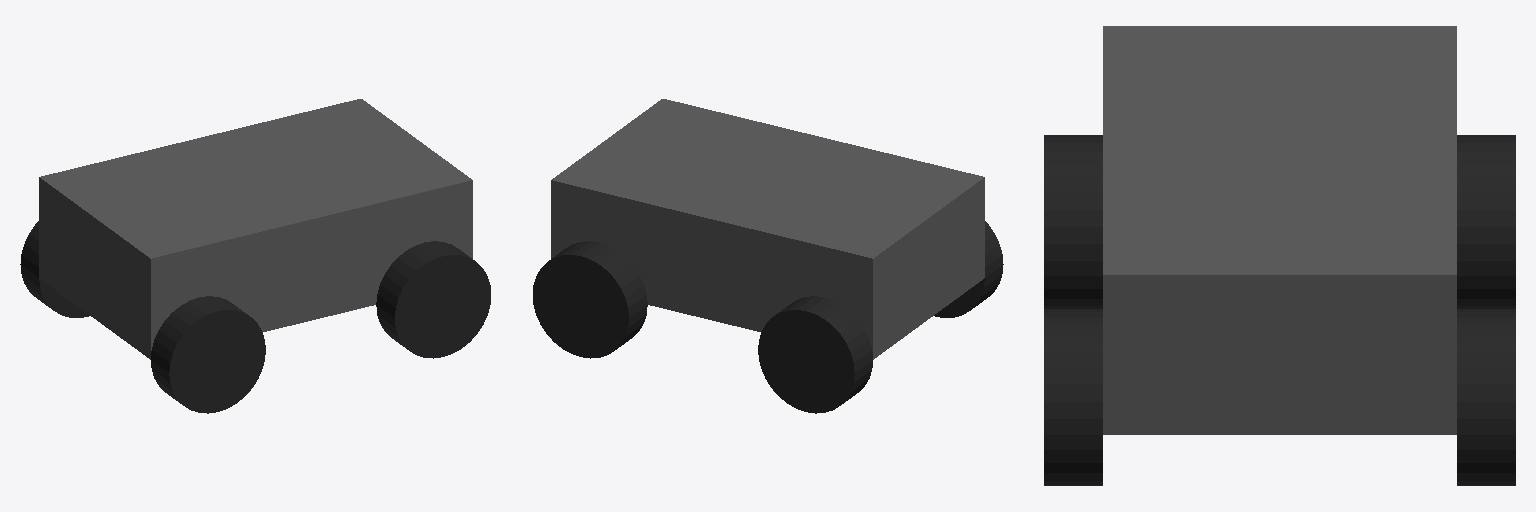
The robot description file, URDF, robot "panther":
<?xml version="1.0"?>
<robot name="panther" xmlns:xacro="http://www.ros.org/wiki/xacro">

  <!-- Base Link -->
  <link name="base_link">
    <visual>
      <origin xyz="0 0 0" rpy="0 0 0"/>
      <geometry>
        <box size="1.0 0.6 0.3"/>
      </geometry>
      <material name="dark_grey">
        <color rgba="0.4 0.4 0.4 1"/>
      </material>
    </visual>
    <collision>
      <origin xyz="0 0 0" rpy="0 0 0"/>
      <geometry>
        <box size="1.0 0.6 0.3"/>
      </geometry>
    </collision>
    <inertial>
      <mass value="30.0"/>
      <inertia ixx="1.5" ixy="0" ixz="0" iyy="3.0" iyz="0" izz="3.5"/>
    </inertial>
  </link>

  <!-- Front Left Wheel -->
  <link name="front_left_wheel">
    <visual>
      <origin xyz="0 0 0" rpy="1.5708 0 0"/>
      <geometry>
        <cylinder radius="0.15" length="0.1"/>
      </geometry>
      <material name="black">
        <color rgba="0.2 0.2 0.2 1"/>
      </material>
    </visual>
    <collision>
      <origin xyz="0 0 0" rpy="1.5708 0 0"/>
      <geometry>
        <cylinder radius="0.15" length="0.1"/>
      </geometry>
    </collision>
    <inertial>
      <mass value="2.0"/>
      <inertia ixx="0.02" ixy="0" ixz="0" iyy="0.02" iyz="0" izz="0.04"/>
    </inertial>
  </link>

  <!-- Front Right Wheel -->
  <link name="front_right_wheel">
    <visual>
      <origin xyz="0 0 0" rpy="1.5708 0 0"/>
      <geometry>
        <cylinder radius="0.15" length="0.1"/>
      </geometry>
      <material name="black">
        <color rgba="0.2 0.2 0.2 1"/>
      </material>
    </visual>
    <collision>
      <origin xyz="0 0 0" rpy="1.5708 0 0"/>
      <geometry>
        <cylinder radius="0.15" length="0.1"/>
      </geometry>
    </collision>
    <inertial>
      <mass value="2.0"/>
      <inertia ixx="0.02" ixy="0" ixz="0" iyy="0.02" iyz="0" izz="0.04"/>
    </inertial>
  </link>

  <!-- Rear Left Wheel -->
  <link name="rear_left_wheel">
    <visual>
      <origin xyz="0 0 0" rpy="1.5708 0 0"/>
      <geometry>
        <cylinder radius="0.15" length="0.1"/>
      </geometry>
      <material name="black">
        <color rgba="0.2 0.2 0.2 1"/>
      </material>
    </visual>
    <collision>
      <origin xyz="0 0 0" rpy="1.5708 0 0"/>
      <geometry>
        <cylinder radius="0.15" length="0.1"/>
      </geometry>
    </collision>
    <inertial>
      <mass value="2.0"/>
      <inertia ixx="0.02" ixy="0" ixz="0" iyy="0.02" iyz="0" izz="0.04"/>
    </inertial>
  </link>

  <!-- Rear Right Wheel -->
  <link name="rear_right_wheel">
    <visual>
      <origin xyz="0 0 0" rpy="1.5708 0 0"/>
      <geometry>
        <cylinder radius="0.15" length="0.1"/>
      </geometry>
      <material name="black">
        <color rgba="0.2 0.2 0.2 1"/>
      </material>
    </visual>
    <collision>
      <origin xyz="0 0 0" rpy="1.5708 0 0"/>
      <geometry>
        <cylinder radius="0.15" length="0.1"/>
      </geometry>
    </collision>
    <inertial>
      <mass value="2.0"/>
      <inertia ixx="0.02" ixy="0" ixz="0" iyy="0.02" iyz="0" izz="0.04"/>
    </inertial>
  </link>

  <!-- Joints -->
  <joint name="base_to_front_left_wheel" type="continuous">
    <parent link="base_link"/>
    <child link="front_left_wheel"/>
    <origin xyz="0.35 0.35 -0.15" rpy="0 0 0"/>
    <axis xyz="0 1 0"/>
  </joint>

  <joint name="base_to_front_right_wheel" type="continuous">
    <parent link="base_link"/>
    <child link="front_right_wheel"/>
    <origin xyz="0.35 -0.35 -0.15" rpy="0 0 0"/>
    <axis xyz="0 1 0"/>
  </joint>

  <joint name="base_to_rear_left_wheel" type="continuous">
    <parent link="base_link"/>
    <child link="rear_left_wheel"/>
    <origin xyz="-0.35 0.35 -0.15" rpy="0 0 0"/>
    <axis xyz="0 1 0"/>
  </joint>

  <joint name="base_to_rear_right_wheel" type="continuous">
    <parent link="base_link"/>
    <child link="rear_right_wheel"/>
    <origin xyz="-0.35 -0.35 -0.15" rpy="0 0 0"/>
    <axis xyz="0 1 0"/>
  </joint>

</robot>

--- Facts derived from the render (not from the file) ---
Views: 3 orthographic renders of the robot side by side, from view 1: azimuth 30°, elevation 25°; view 2: azimuth 150°, elevation 25°; view 3: azimuth 270°, elevation 25°.
Model panther with 5 links and 4 joints (4 continuous), rooted at base_link, posed every joint at zero.
Links seen in each view (by area): view 1: base_link, rear_right_wheel, front_right_wheel, rear_left_wheel; view 2: base_link, rear_left_wheel, front_left_wheel, rear_right_wheel; view 3: base_link, front_left_wheel, front_right_wheel, rear_left_wheel, rear_right_wheel.
Link boxes in pixels (x1=…): base_link: x1=39, y1=99, x2=472, y2=359; rear_right_wheel: x1=151, y1=296, x2=265, y2=413; front_right_wheel: x1=376, y1=241, x2=490, y2=358; rear_left_wheel: x1=20, y1=221, x2=89, y2=317; base_link: x1=551, y1=99, x2=984, y2=359; rear_left_wheel: x1=758, y1=296, x2=872, y2=413; front_left_wheel: x1=533, y1=241, x2=647, y2=358; rear_right_wheel: x1=934, y1=221, x2=1003, y2=317; base_link: x1=1103, y1=26, x2=1456, y2=434; front_left_wheel: x1=1457, y1=309, x2=1515, y2=485; front_right_wheel: x1=1044, y1=309, x2=1102, y2=485; rear_left_wheel: x1=1457, y1=135, x2=1515, y2=308; rear_right_wheel: x1=1044, y1=135, x2=1102, y2=308.
Size in the robot's own frame: 1 by 0.8 by 0.45 metres.
Geometry: primitives only (box / cylinder / sphere), no mesh files.